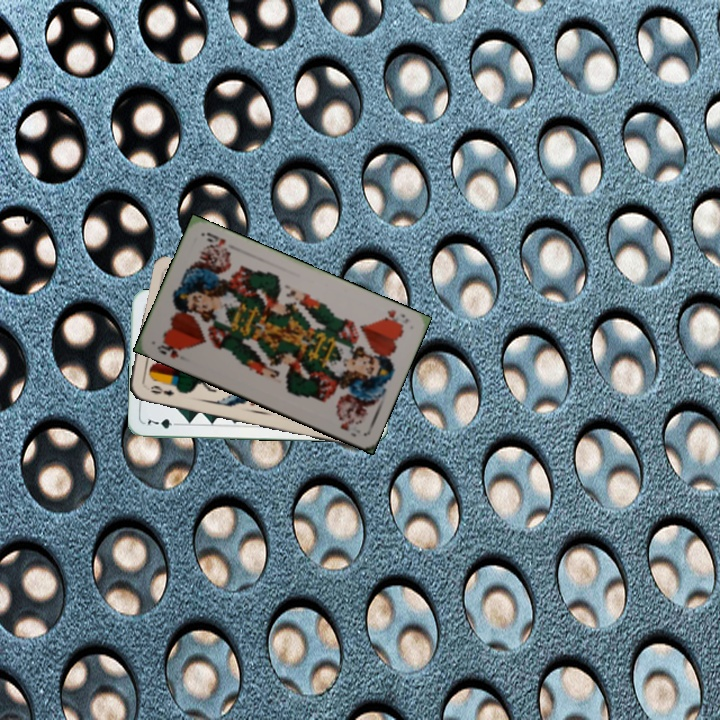EO: (146, 381, 177, 398)
G7: (144, 414, 183, 431)
HO: (153, 337, 187, 361), (378, 306, 412, 330)
